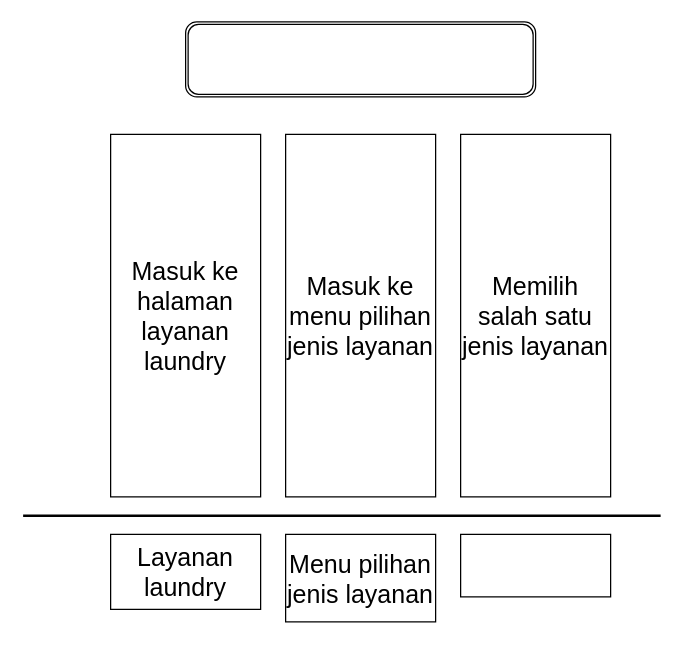
This 683x656 diagram has some shape labels left out. The shapes that lost their labels are listed below. From the top down, each one's box as (x1, y1, x2, y2) in pixels, then its label:
(184, 21, 536, 97): Memilih Jenis Layanan
(459, 533, 611, 597): Jenis layanan
